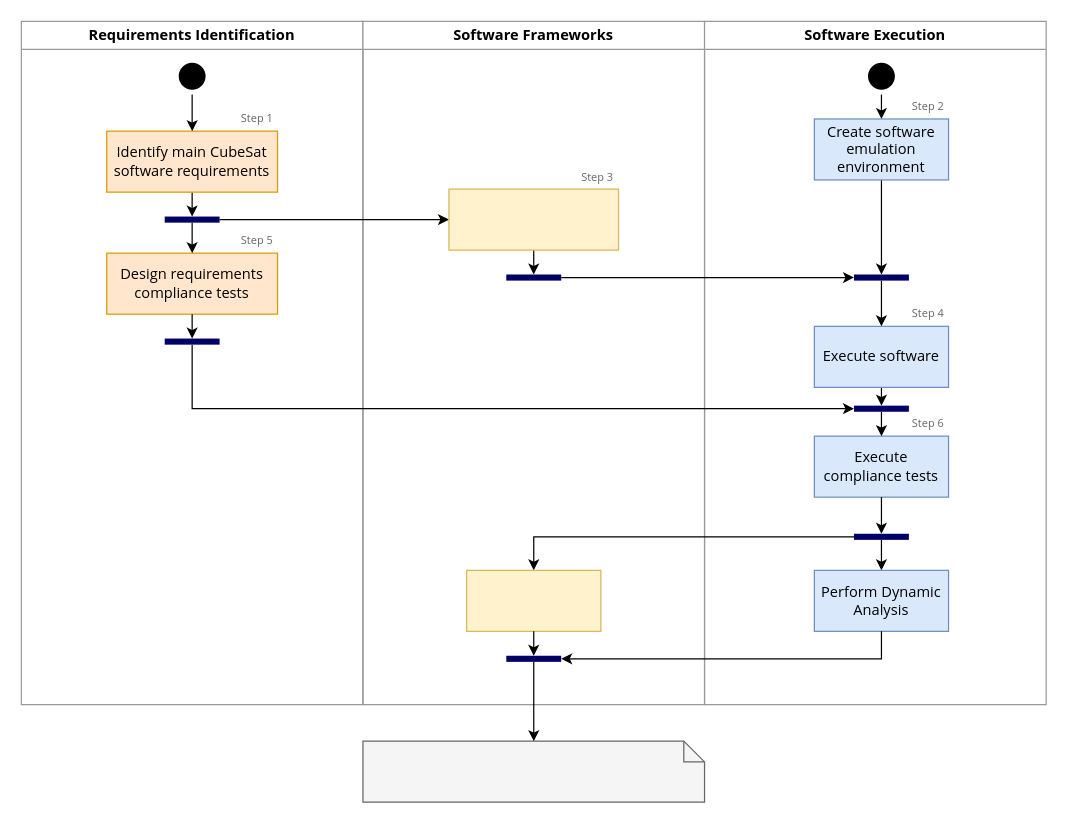
The diagram is 1068 pixels wide and 824 high, and some of its shapes have lost their labels. The shapes that lost their labels are listed below. From the top down, each one's centre as x and y in pixels, then its label:
At point 533,219: "Locate representative CubeSat software frameworks".
At point 533,600: "Perform Static Analysis".
At point 533,771: "Results: Reliability, Development Effort, Performance".
